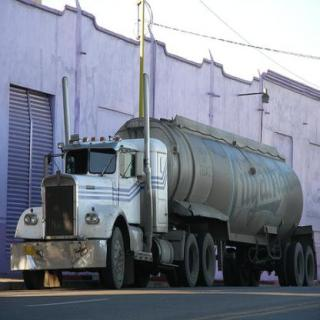Normal_vehicle: (7, 111, 316, 297)
